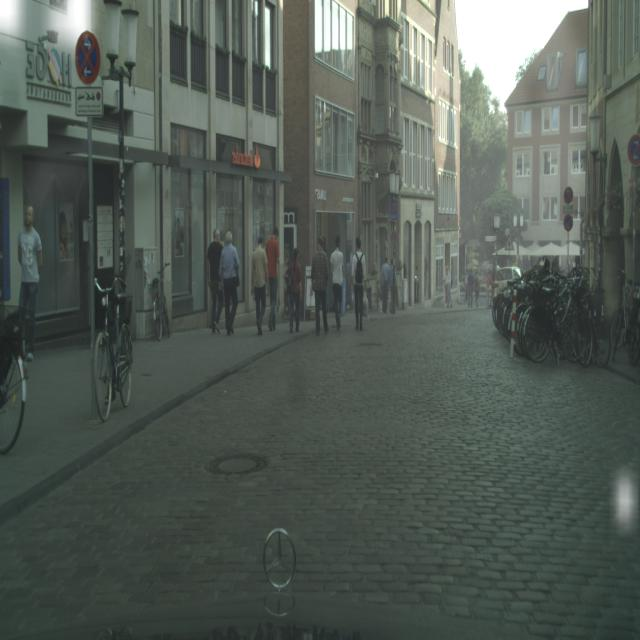car: (92, 274, 133, 422), (0, 309, 28, 455), (609, 269, 639, 364), (147, 256, 171, 341)
person: (18, 204, 42, 362), (218, 230, 241, 336), (311, 236, 330, 334), (250, 234, 268, 335), (207, 228, 224, 333), (265, 226, 280, 331), (351, 235, 367, 331), (330, 236, 345, 332), (287, 247, 302, 333), (443, 264, 452, 308)
